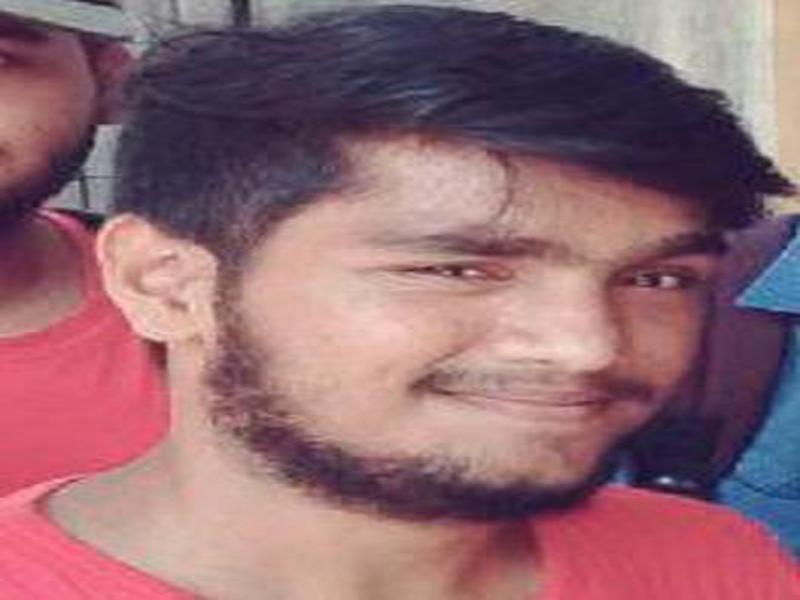without_mask: (283, 151, 711, 512)
